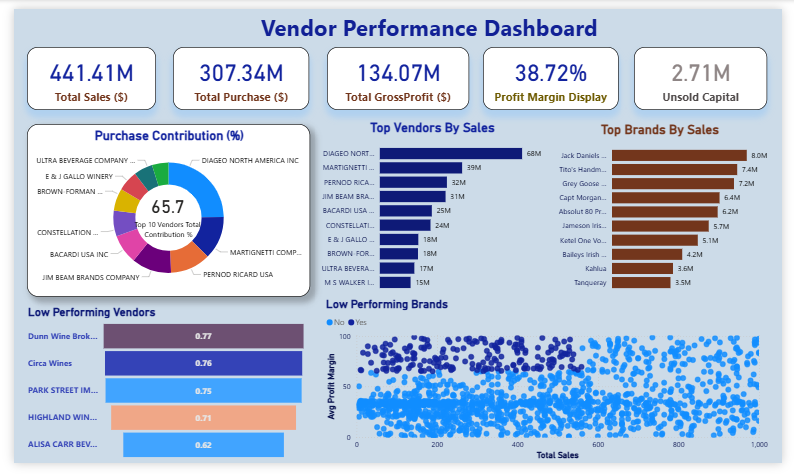

Layout of this report page (visuals, bound fields, positions):
{"tool":"powerbi","page":{"name":"Page 1","canvas":[1280,757],"ordinal":0},"visuals":[{"type":"card","fields":{"Values":["Sum(vendor_sales_summary.TotalSalesDollars)"]},"box":[21.7,63.3,215,105],"z":0},{"type":"card","fields":{"Values":["Sum(vendor_sales_summary.TotalPurchaseDollars)"]},"box":[265.6,63.3,227.4,104.6],"z":1000},{"type":"card","fields":{"Values":["Sum(vendor_sales_summary.GrossProfit)"]},"box":[521.3,63.3,237.4,104.6],"z":2000},{"type":"card","fields":{"Values":["Avg(vendor_sales_summary.ProfitMargin)"]},"box":[781.9,63.3,225.8,104.6],"z":3000},{"type":"card","fields":{"Values":["vendor_sales_summary.Unsold Capital"]},"box":[1032.6,63.3,222.5,104.6],"z":4000},{"type":"donutChart","title":"Purchase Contribution (%)","fields":{"Y":["Sum(PurchaseContribution%.PurchaseContribution%)"],"Category":["PurchaseContribution%.VendorName"]},"box":[21.7,191.7,471.7,288.3],"z":5000},{"type":"card","fields":{"Values":["PurchaseContribution%.Top10Vendors%"]},"box":[190,265.3,131.7,140],"z":6000},{"type":"clusteredBarChart","title":"Top Vendors By Sales ","fields":{"Category":["SalesContribution%.VendorName"],"Y":["Sum(SalesContribution%.TotalSalesDollars)"]},"box":[496.7,185,401.7,295],"z":7000},{"type":"clusteredBarChart","title":"Top Brands By Sales","fields":{"Category":["SalesContribution%.Description"],"Y":["Sum(SalesContribution%.TotalSalesDollars)"]},"box":[891.7,188.3,370,291.7],"z":8000},{"type":"textbox","box":[406.7,0,580,63.3],"z":9000},{"type":"funnel","title":"Low Performing Vendors","fields":{"Category":["LowTurnoverVendor.VendorName"],"Y":["Sum(LowTurnoverVendor.AvgStockTurnOver)"]},"box":[18.2,494,474.3,263],"z":10000},{"type":"scatterChart","title":"Low Performing Brands","fields":{"Category":["BrandPerformance.Description"],"Y":["Sum(BrandPerformance.AvgProfitMargin)"],"X":["Sum(BrandPerformance.TotalSales)"],"Series":["BrandPerformance.TargetBrand"]},"box":[515,480,746.7,276.7],"z":10001}]}

Visuals, with their boxes in screenshot pixels (x1, y1, x2, y2), scaled from the page's 1280x757 canvas onto the 794x474 screenshot:
card - Sum(vendor_sales_summary.TotalSalesDollars): box(13, 40, 147, 105)
card - Sum(vendor_sales_summary.TotalPurchaseDollars): box(165, 40, 306, 105)
card - Sum(vendor_sales_summary.GrossProfit): box(323, 40, 471, 105)
card - Avg(vendor_sales_summary.ProfitMargin): box(485, 40, 625, 105)
card - vendor_sales_summary.Unsold Capital: box(641, 40, 779, 105)
"Purchase Contribution (%)" donutChart: box(13, 120, 306, 301)
card - PurchaseContribution%.Top10Vendors%: box(118, 166, 200, 254)
"Top Vendors By Sales " clusteredBarChart: box(308, 116, 557, 301)
"Top Brands By Sales" clusteredBarChart: box(553, 118, 783, 301)
textbox: box(252, 0, 612, 40)
"Low Performing Vendors" funnel: box(11, 309, 306, 473)
"Low Performing Brands" scatterChart: box(319, 301, 783, 473)
